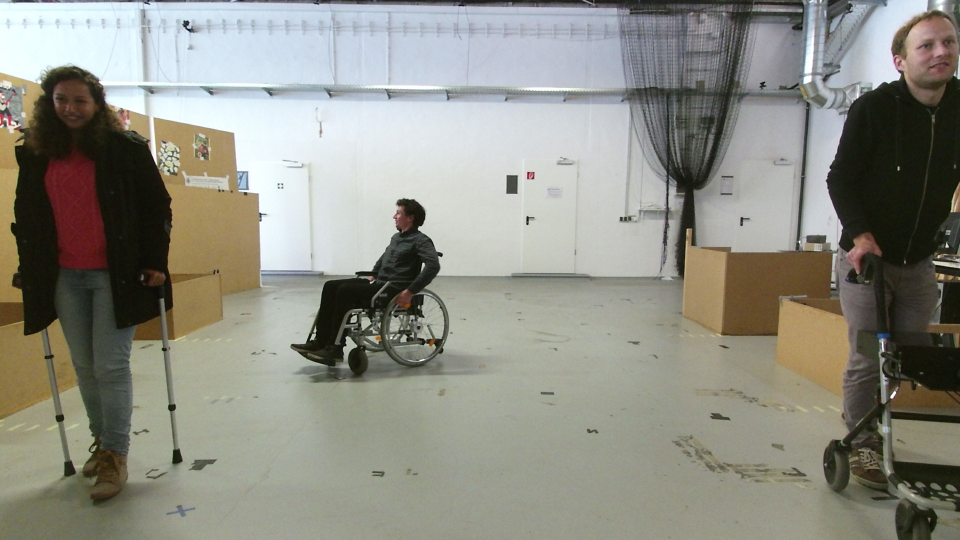crutches: (16, 65, 187, 493)
wheelchair: (290, 191, 453, 379)
